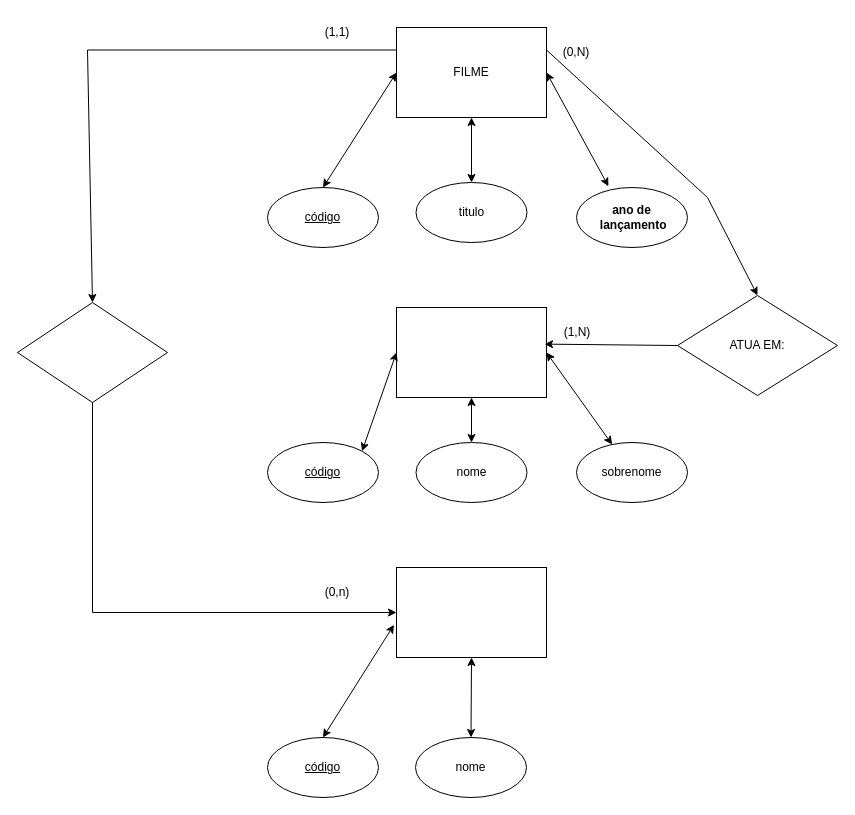
Image size: 855x815. Some labels were removed from this diagram. The box of each missing label's shape, as (x1, y1, x2, y2) in pixels:
ATOR: (396, 306, 546, 398)
FALADO EM:: (16, 302, 168, 402)
IDIOMA: (396, 566, 546, 658)
